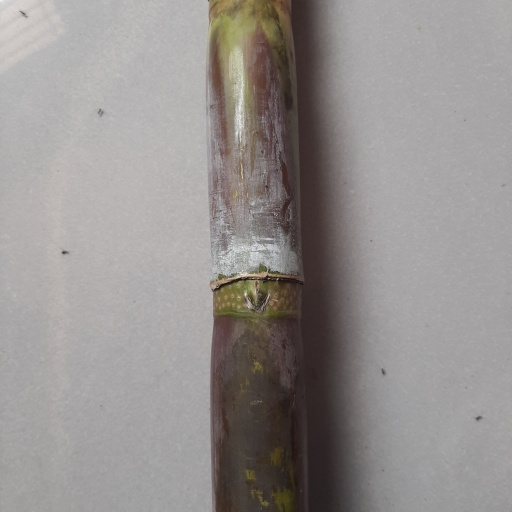Bud: (245, 280, 270, 310)
